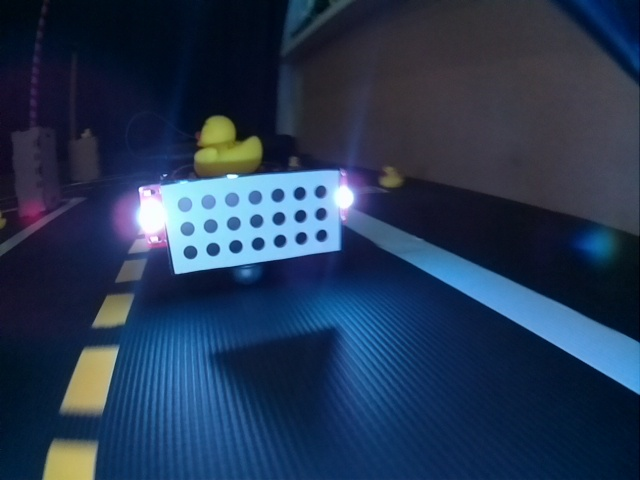Duckie: (195, 118, 259, 176), (380, 166, 399, 187)
Duckiebot: (138, 111, 354, 283)
